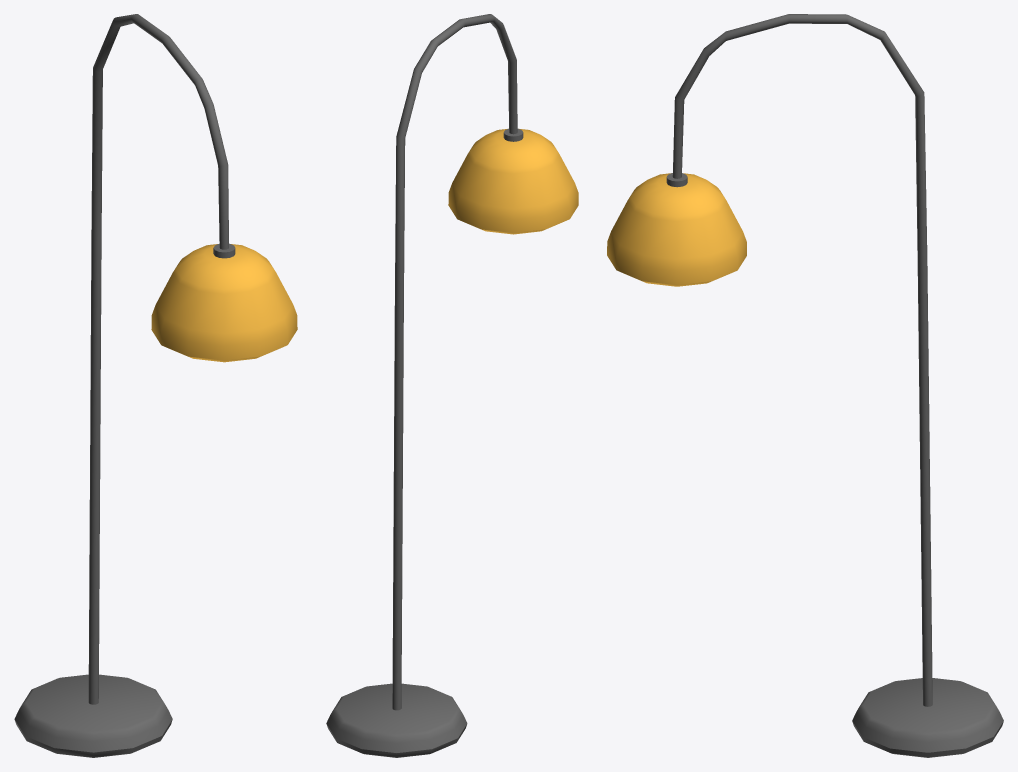
The model's file is Study Light_2.fbx.
3 renders of one model, left to right at view 1: azimuth 30°, elevation 25°; view 2: azimuth 150°, elevation 25°; view 3: azimuth 270°, elevation 25°, orthographic. The views are drawn at different scales.
Parts seen in each view (by area): view 1: Study Light_2; view 2: Study Light_2; view 3: Study Light_2.
Boxes of the visible parts, x1=… form: Study Light_2: x1=14, y1=14, x2=297, y2=757; Study Light_2: x1=326, y1=14, x2=578, y2=757; Study Light_2: x1=607, y1=14, x2=1003, y2=757.
Bounding box in the file's own units: 0.2439 × 1.27 × 0.6376.
